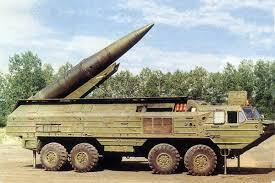rszo: (7, 98, 272, 180)
